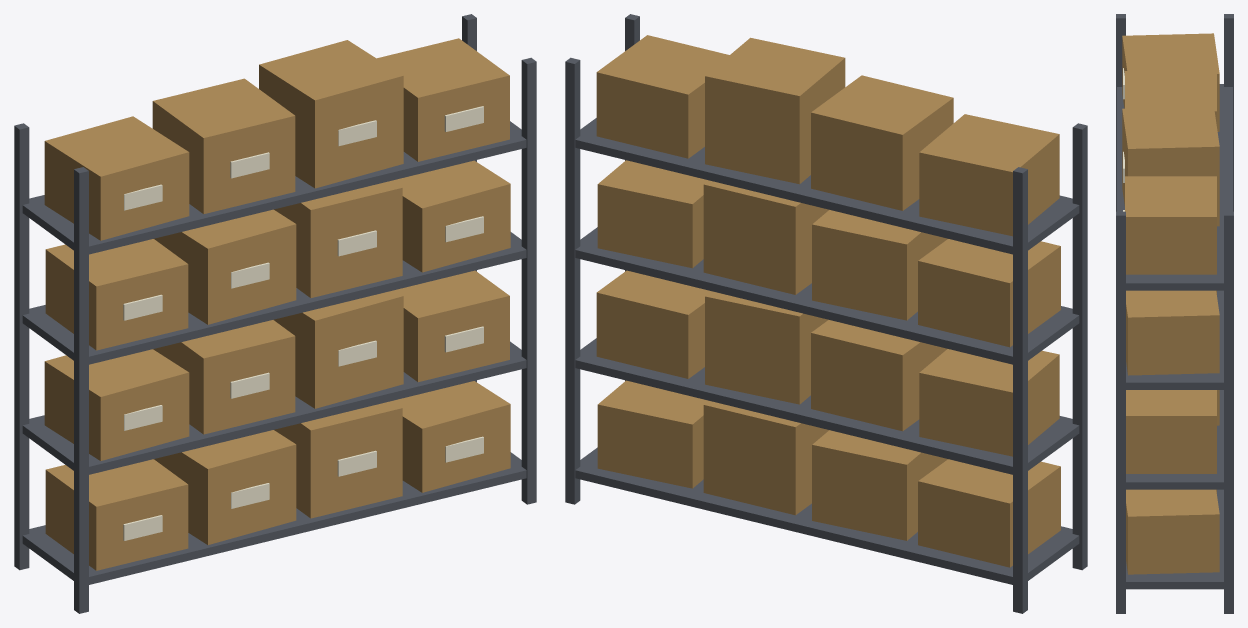
File: evidence_shelf.glb
The picture shows the model from 3 angles, left to right: view 1: azimuth 30°, elevation 25°; view 2: azimuth 150°, elevation 25°; view 3: azimuth 270°, elevation 25°; orthographic projection. The views are drawn at different scales.
Visible parts, largest first — view 1: boxes_evidence_box, shelves_evidence_steel, frame_evidence_steel, labels_evidence_label; view 2: boxes_evidence_box, shelves_evidence_steel, frame_evidence_steel; view 3: boxes_evidence_box, shelves_evidence_steel, frame_evidence_steel.
Part boxes in pixels (left/top/right/bottom): boxes_evidence_box: left=44, top=38, right=510, bottom=570; shelves_evidence_steel: left=22, top=121, right=526, bottom=584; frame_evidence_steel: left=14, top=14, right=536, bottom=613; labels_evidence_label: left=123, top=106, right=483, bottom=540; boxes_evidence_box: left=596, top=35, right=1060, bottom=567; shelves_evidence_steel: left=575, top=118, right=1079, bottom=584; frame_evidence_steel: left=565, top=14, right=1087, bottom=613; boxes_evidence_box: left=1122, top=33, right=1219, bottom=574; shelves_evidence_steel: left=1117, top=84, right=1232, bottom=589; frame_evidence_steel: left=1116, top=14, right=1233, bottom=613.
Bounding box in the file's own units: 2.39 × 2.26 × 0.59.
